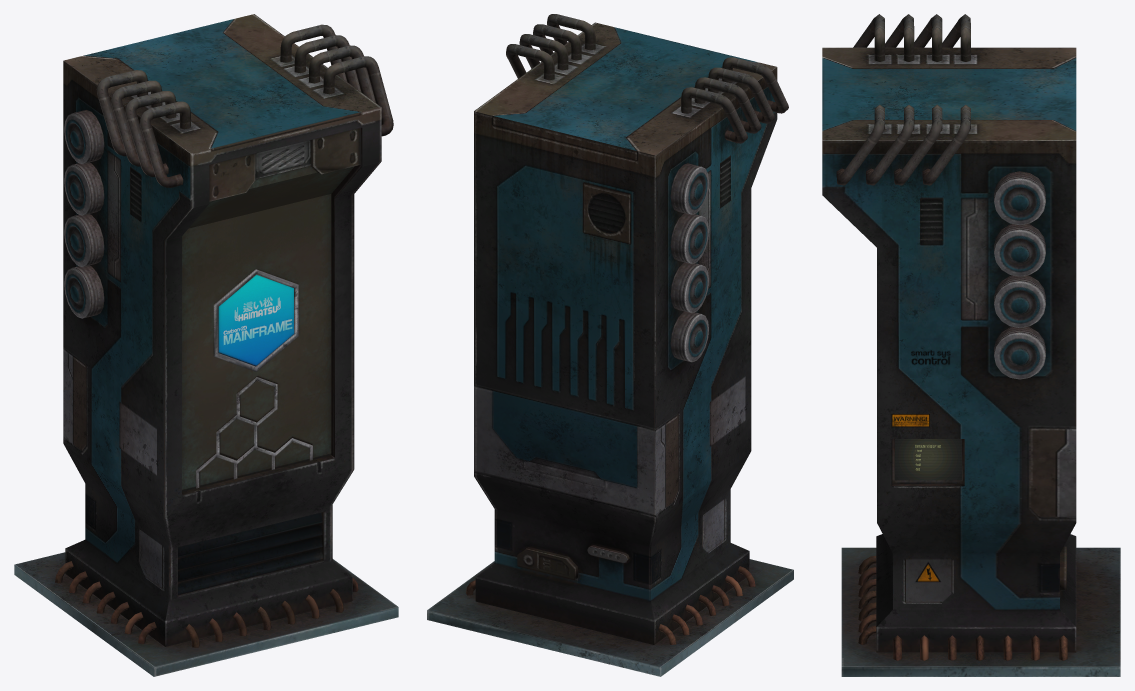
Rendered from server_mainframe.dae.
3 views of the same model, side by side, from view 1: azimuth 30°, elevation 25°; view 2: azimuth 150°, elevation 25°; view 3: azimuth 270°, elevation 25° (orthographic). The views are drawn at different scales.
Visible parts, largest first — view 1: server_mainframe, server_mainframe_glass; view 2: server_mainframe; view 3: server_mainframe, server_mainframe_display.
Boxes of the visible parts, left/top/right/bottom form: server_mainframe: left=14, top=14, right=398, bottom=676; server_mainframe_glass: left=182, top=165, right=354, bottom=491; server_mainframe: left=427, top=14, right=793, bottom=676; server_mainframe: left=822, top=14, right=1120, bottom=676; server_mainframe_display: left=895, top=439, right=961, bottom=480.
Size of the model in its own units: 152 by 327 by 161.
